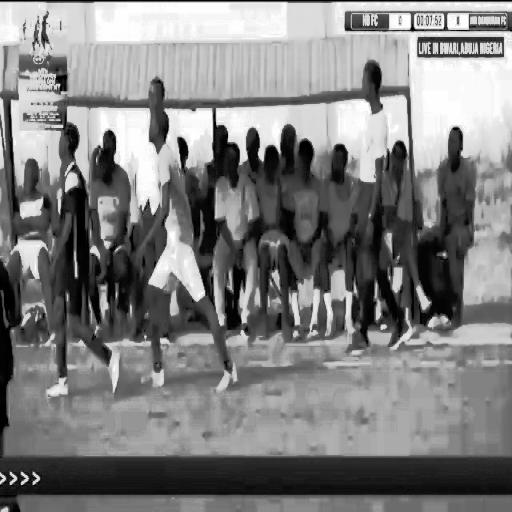referee: (355, 47, 401, 350)
team1: (141, 99, 239, 394)
team2: (41, 100, 125, 397)
